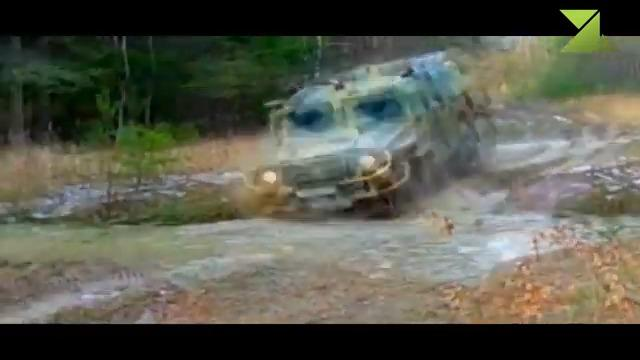MIL_HMMWV: (251, 45, 481, 215)
